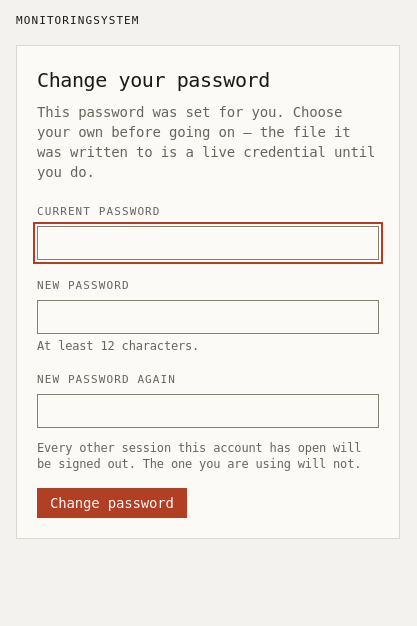
Scenario: a refused password change, with the core’s id (U-59) › says the id after the core’s refusal, in the same node
Check: the heading "Change your password" is shown, box [37,68,270,92]
Type "the-generated-one" into the password field labelled "Current password".
click(208, 243); type("the-generated-one")  # box [37,226,379,260]
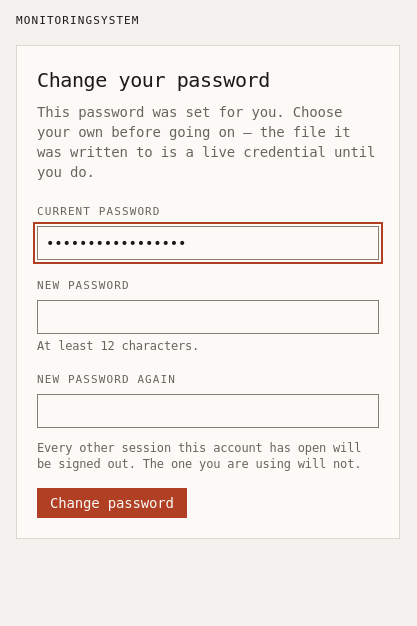
Type "a-password-of-my-own" into the password field labelled "New password".
click(208, 317); type("a-password-of-my-own")  # box [37,300,379,334]
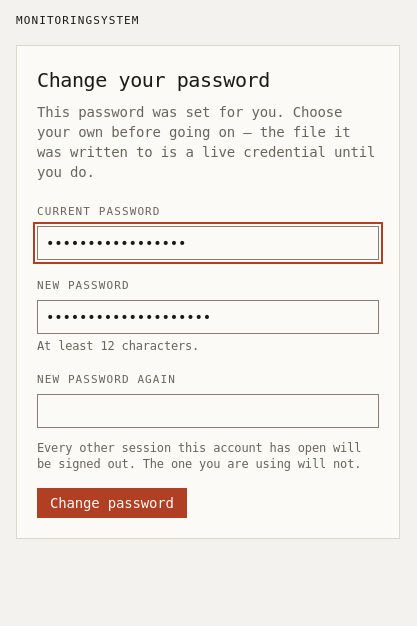
Type "a-password-of-my-own" into the password field labelled "New password again".
click(208, 411); type("a-password-of-my-own")  # box [37,394,379,428]
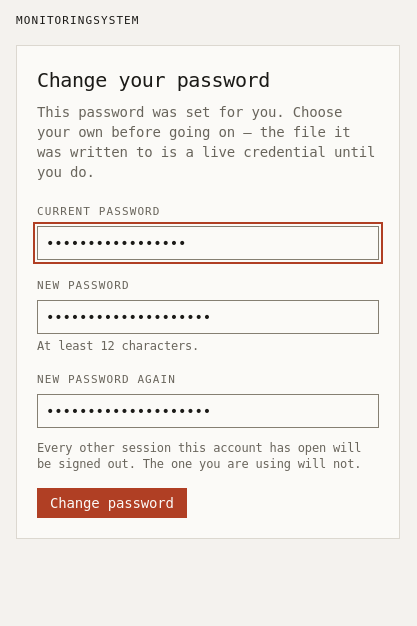
Click the button "Change password".
click(112, 503)  # box [37,488,187,518]
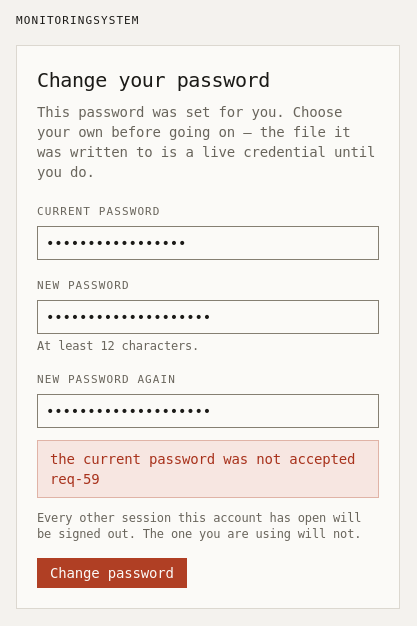
Check: the message reads "the current password was not accepted req-59", box [37,440,379,498]
Check: the text with class "font-mono" reads "req-59", box [50,471,100,487]
